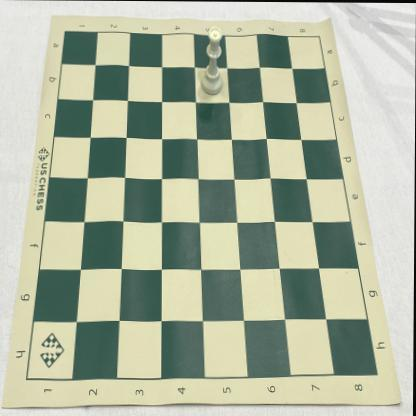white-queen: (200, 26, 224, 96)
